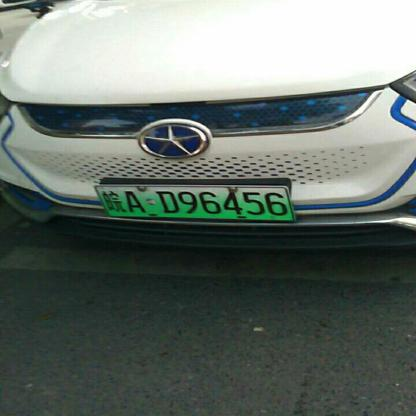lp: (95, 186, 294, 220)
